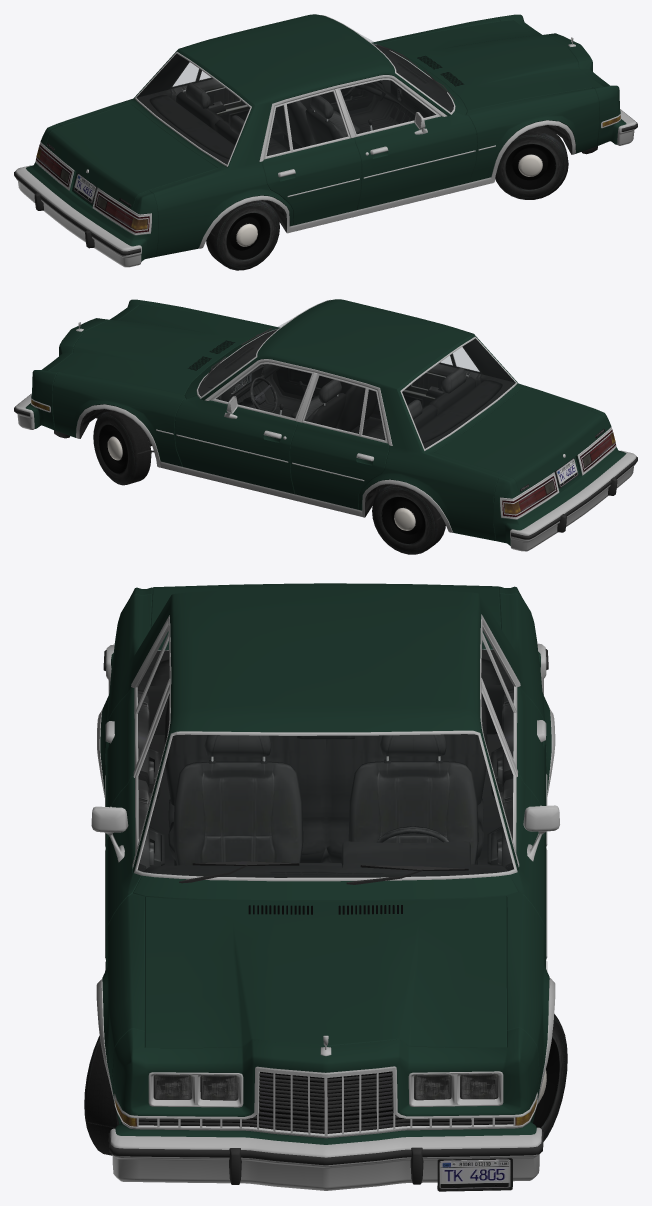
The model's file is amsedan80.glb.
3 renders of one model, top to bottom at view 1: azimuth 30°, elevation 25°; view 2: azimuth 150°, elevation 25°; view 3: azimuth 270°, elevation 25°, orthographic. The views are drawn at different scales.
Visible parts, largest first — view 1: Body_bodycolour_0, Hood_bodycolour_0, Trunk_door_bodycolour_0, Door_FR_bodycolour_0, Door_RR_bodycolour_0, Interior_GEN4DR_INTERIOR_0, Seats_GEN4DR_INTERIOR_0, Wheel_FR_RIMSTOCK_07_0, Body_chrome_UCB_BOTTOM_0, Wheel_RR_RIMSTOCK_07_0, Bumper_Rear_UCB_BOTTOM_0, Rear_plate_bodycolour_0 (+13 smaller); view 2: Body_bodycolour_0, Hood_bodycolour_0, Trunk_door_bodycolour_0, Door_FL_bodycolour_0, Door_RL_bodycolour_0, Interior_GEN4DR_INTERIOR_0, Seats_GEN4DR_INTERIOR_0, Body_chrome_UCB_BOTTOM_0, Wheel_RL_RIMSTOCK_07_0, Wheel_FL_RIMSTOCK_07_0, Bumper_Rear_UCB_BOTTOM_0, Rear_plate_bodycolour_0 (+13 smaller); view 3: Body_bodycolour_0, Hood_bodycolour_0, Seats_GEN4DR_INTERIOR_0, Front_plate_bodycolour_0, Bumper_Front_UCB_BOTTOM_0, Grill_UCB_BOTTOM_0, Dashboard_GEN4DR_INTERIOR_0, Interior_GEN4DR_INTERIOR_0, Windows_trim_UCB_BOTTOM_0, Body_chrome_UCB_BOTTOM_0, Headlight_glass_Riverside88_lights_glass_0, Trunk_door_bodycolour_0 (+17 smaller).
Boxes of the visible parts, left/top/right/bottom form: Body_bodycolour_0: left=58, top=14, right=599, bottom=256; Hood_bodycolour_0: left=378, top=20, right=602, bottom=110; Trunk_door_bodycolour_0: left=45, top=104, right=217, bottom=209; Door_FR_bodycolour_0: left=354, top=111, right=477, bottom=209; Door_RR_bodycolour_0: left=262, top=138, right=361, bottom=225; Interior_GEN4DR_INTERIOR_0: left=136, top=53, right=452, bottom=164; Seats_GEN4DR_INTERIOR_0: left=176, top=83, right=360, bottom=156; Wheel_FR_RIMSTOCK_07_0: left=495, top=126, right=568, bottom=199; Body_chrome_UCB_BOTTOM_0: left=198, top=75, right=575, bottom=248; Wheel_RR_RIMSTOCK_07_0: left=206, top=200, right=279, bottom=270; Bumper_Rear_UCB_BOTTOM_0: left=14, top=165, right=141, bottom=267; Rear_plate_bodycolour_0: left=26, top=123, right=158, bottom=261; Body_bodycolour_0: left=52, top=299, right=593, bottom=540; Hood_bodycolour_0: left=49, top=305, right=274, bottom=394; Trunk_door_bodycolour_0: left=434, top=389, right=606, bottom=493; Door_FL_bodycolour_0: left=174, top=395, right=297, bottom=494; Door_RL_bodycolour_0: left=290, top=422, right=389, bottom=509; Interior_GEN4DR_INTERIOR_0: left=199, top=338, right=515, bottom=448; Seats_GEN4DR_INTERIOR_0: left=291, top=367, right=475, bottom=440; Body_chrome_UCB_BOTTOM_0: left=76, top=359, right=452, bottom=532; Wheel_RL_RIMSTOCK_07_0: left=372, top=484, right=445, bottom=554; Wheel_FL_RIMSTOCK_07_0: left=93, top=410, right=151, bottom=485; Bumper_Rear_UCB_BOTTOM_0: left=510, top=450, right=637, bottom=551; Rear_plate_bodycolour_0: left=493, top=408, right=626, bottom=545; Body_bodycolour_0: left=100, top=588, right=551, bottom=1100; Hood_bodycolour_0: left=145, top=896, right=506, bottom=1047; Seats_GEN4DR_INTERIOR_0: left=164, top=693, right=487, bottom=865; Front_plate_bodycolour_0: left=112, top=1028, right=539, bottom=1144; Bumper_Front_UCB_BOTTOM_0: left=108, top=1127, right=543, bottom=1191; Grill_UCB_BOTTOM_0: left=114, top=1066, right=537, bottom=1138; Dashboard_GEN4DR_INTERIOR_0: left=143, top=841, right=507, bottom=877; Interior_GEN4DR_INTERIOR_0: left=137, top=649, right=513, bottom=871; Windows_trim_UCB_BOTTOM_0: left=134, top=649, right=517, bottom=884; Body_chrome_UCB_BOTTOM_0: left=96, top=614, right=555, bottom=1102; Headlight_glass_Riverside88_lights_glass_0: left=153, top=1073, right=498, bottom=1100; Trunk_door_bodycolour_0: left=150, top=583, right=501, bottom=649.
Size of the model in its own units: 194 by 54.31 by 76.14.
8 materials, 7 textured.
